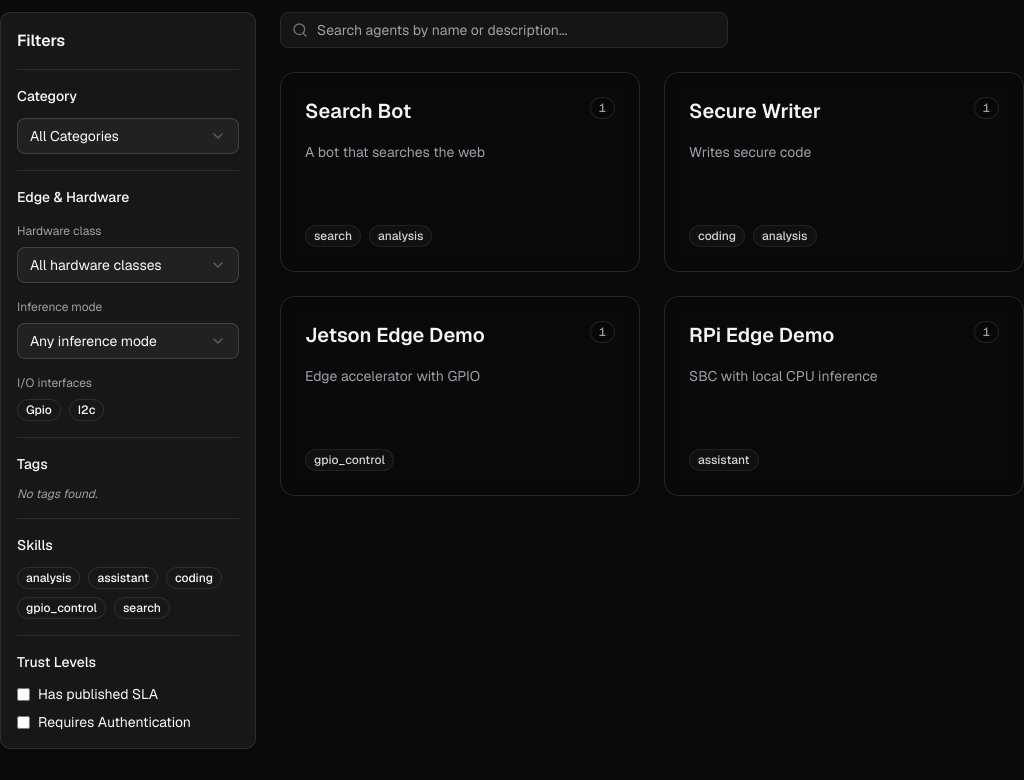
BrowseContent › filters agents by SLA requirement
What coordinates should you click on to do the following:
click the checkbox labelled "Has published SLA"
I would click on:
 (24, 694)
Its box is [17,688,30,700].
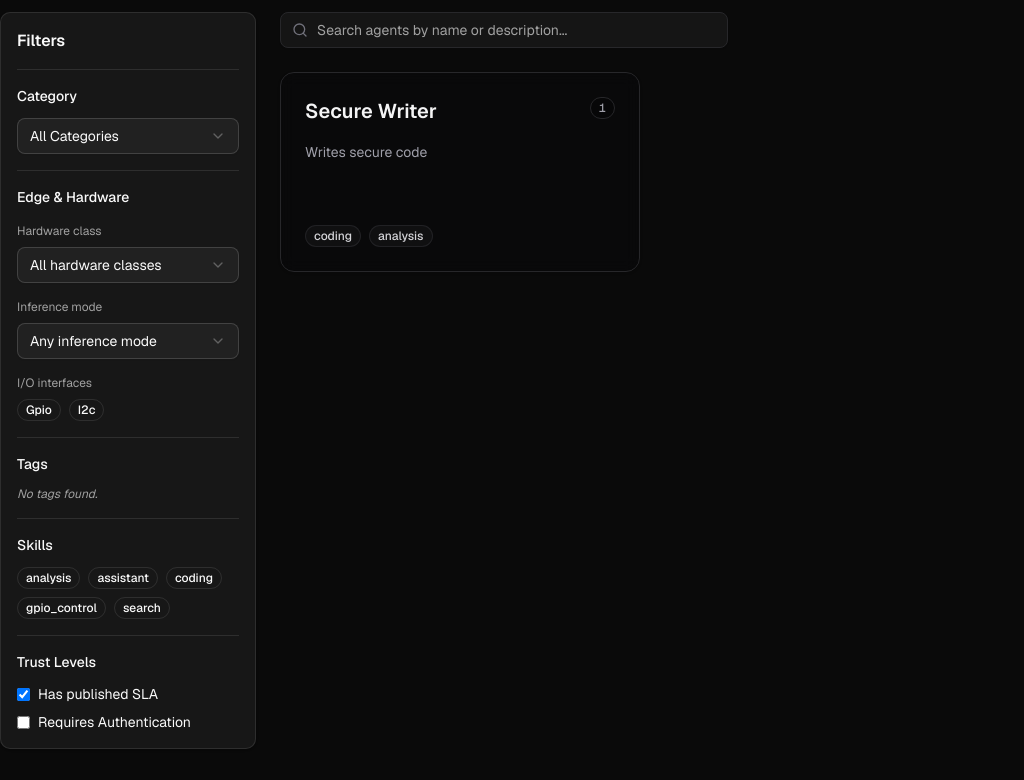
Expected: the text "Secure Writer" is shown, [305,97,437,125]
Now the link "Search Bot" is gone
